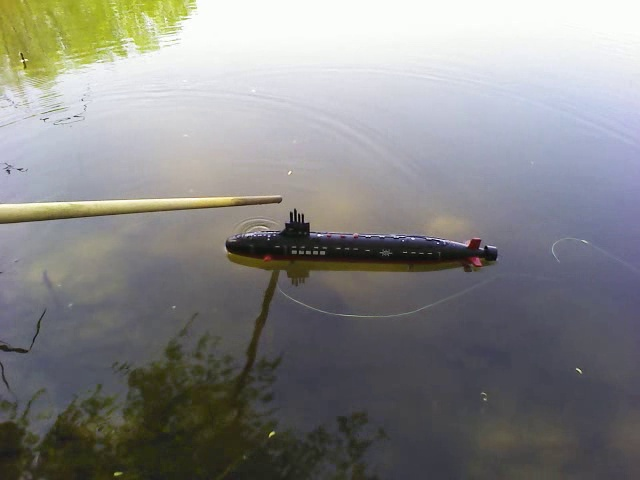submarine: (224, 206, 502, 281)
